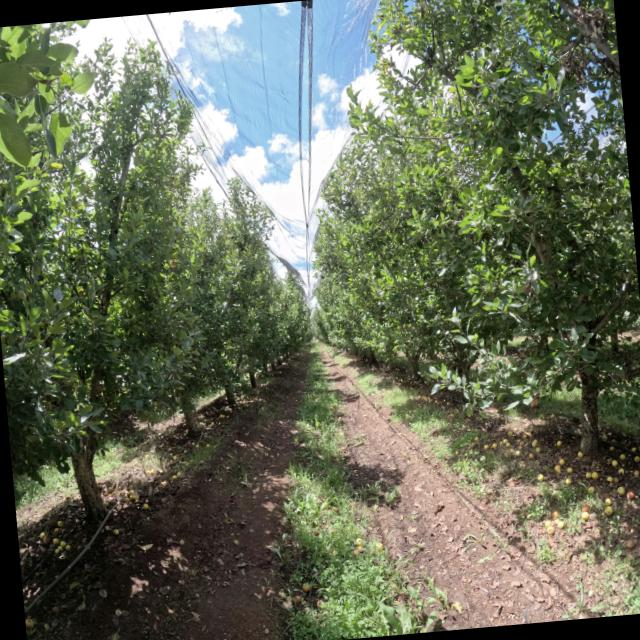-FireBlight-: (560, 46, 587, 85), (576, 6, 608, 37), (523, 281, 534, 297)
